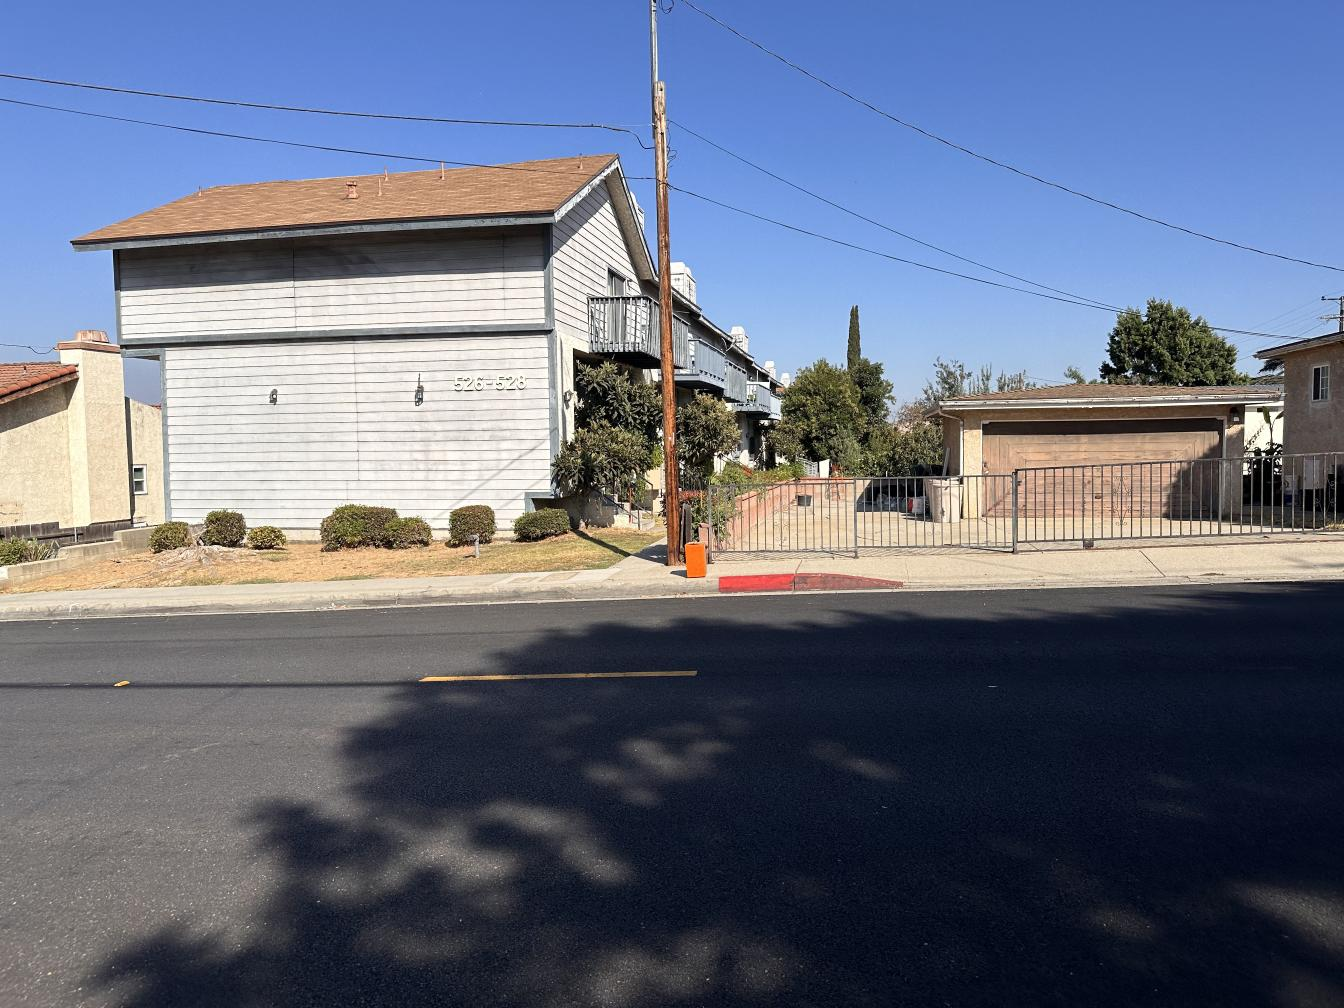curbs-laRr: (177, 576, 719, 622), (8, 596, 171, 631)
orange box: (686, 538, 712, 581)
